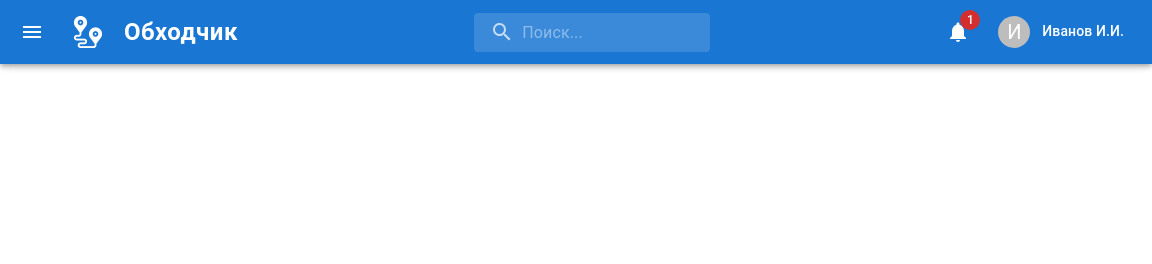
renders Header with user menu, search field and notifications
This screenshot has width=1152, height=264.
Check: the picture with alt text "CRM App Logo" is shown, box [72, 16, 104, 48]
Check: the text "Обходчик" is shown, box [124, 16, 238, 48]
Click on user profile menu button
Click the heading "Иванов И.И.".
click(1083, 32)  # box [1042, 21, 1124, 43]
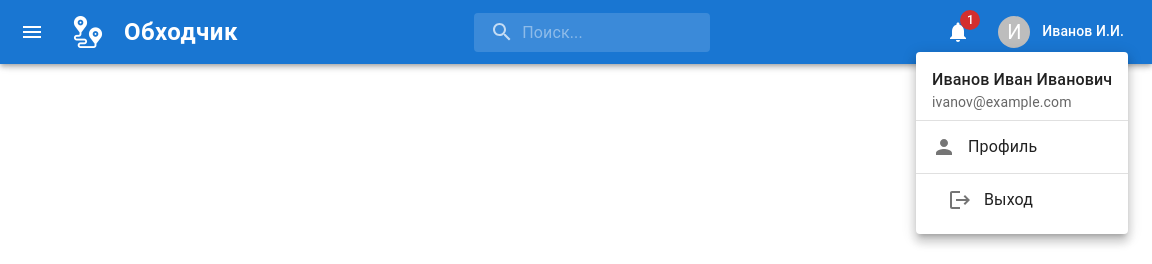
Check: the text "Иванов Иван Иванович" is shown, box [932, 68, 1112, 92]
Check: the text "ivanov@example.com" is shown, box [932, 94, 1072, 110]
Check: the menu item "Профиль" is shown, box [932, 135, 1037, 159]
